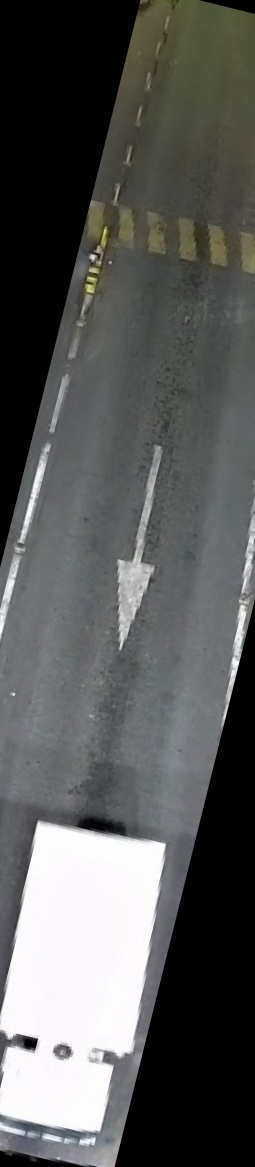truck: (0, 797, 185, 1167)
